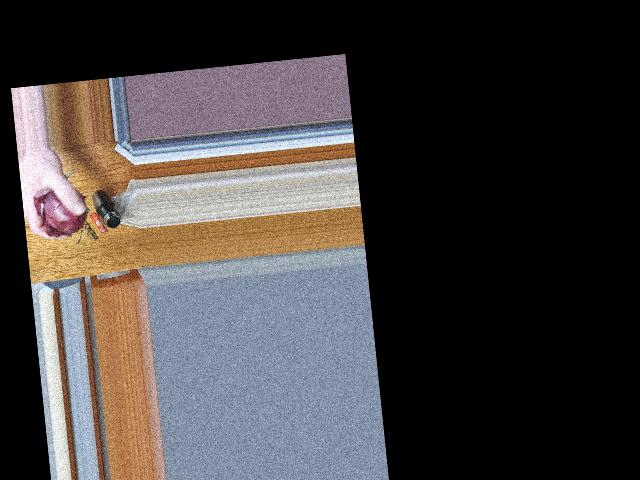onion: (37, 184, 82, 234)
